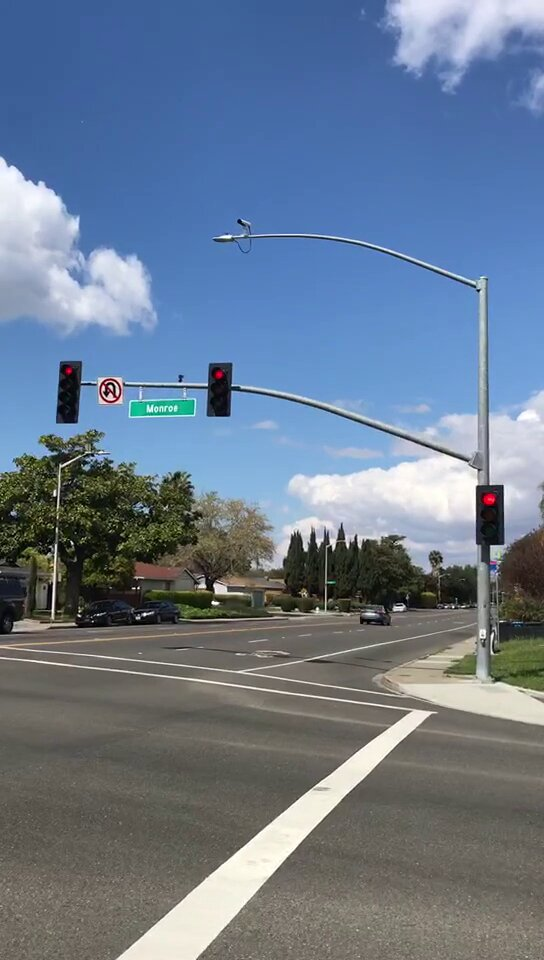red_light: (478, 486, 502, 543), (59, 360, 81, 420), (211, 364, 229, 413)
